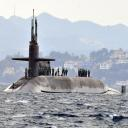submarine: (3, 8, 128, 98)
